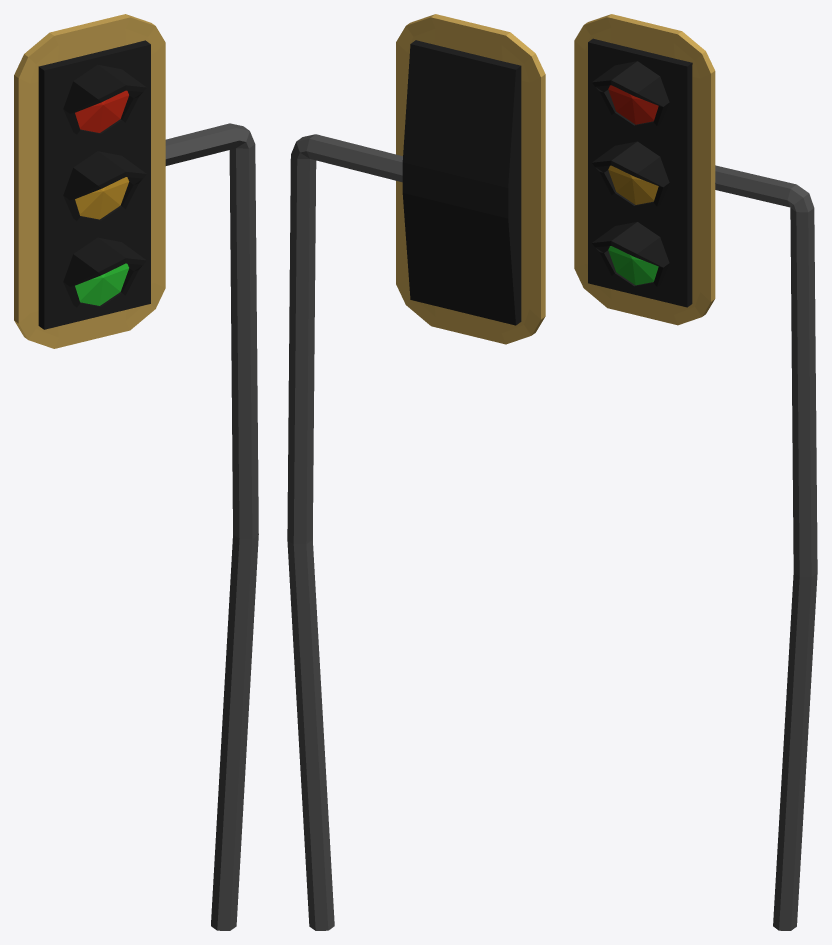
Rendered from TafficLight.fbx.
3 renders of one model, left to right at view 1: azimuth 30°, elevation 25°; view 2: azimuth 150°, elevation 25°; view 3: azimuth 330°, elevation 25°, orthographic. The views are drawn at different scales.
Parts seen in each view (by area): view 1: Окружность.004; view 2: Окружность.004; view 3: Окружность.004.
Part boxes in pixels (x1,y1,x2,y2): Окружность.004: (14,14,258,930); Окружность.004: (287,14,545,930); Окружность.004: (574,14,817,930).
Size of the model in its own units: 111 by 403 by 40.01.
